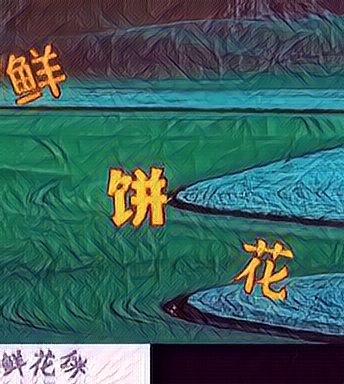B1FD: (106, 165, 166, 229)
BBA8: (232, 240, 292, 304)
CFCA: (4, 46, 64, 110)
